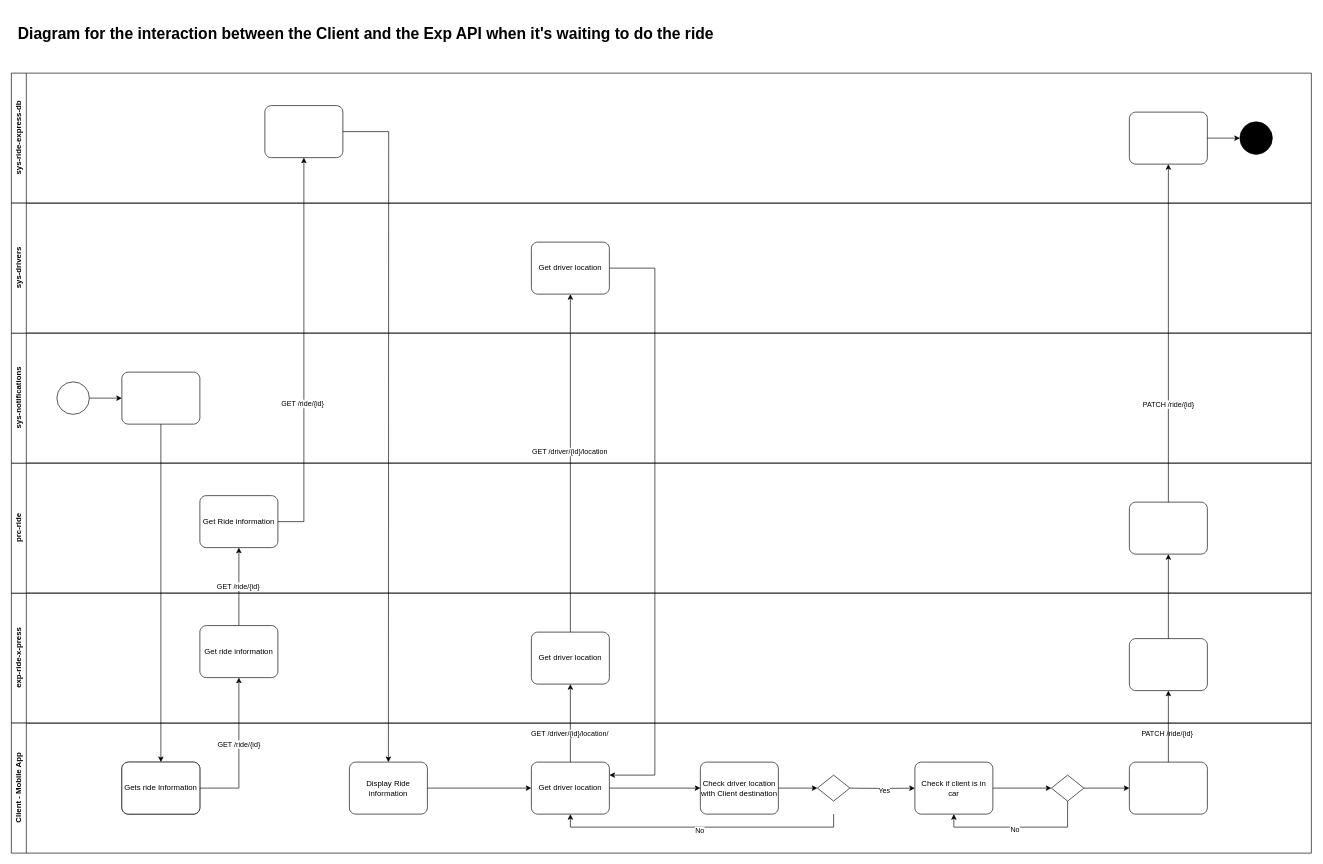
This 1323x864 diagram has some shape labels left out. The shapes that lost their labels are listed below. From the top down, each one's centre as x and y in pixels, then its label:
At point 303,131: "Get Ride".
At point 1168,137: "Update Ride".
At point 160,397: "Send notification to client".
At point 1168,527: "Update Ride with client information and conciliate with Driver information".
At point 1168,664: "Update Ride with client information".
At point 833,787: "Arrived pickup location?".
At point 1067,787: "Is client in car?".
At point 1168,787: "Inform Client in the car".
